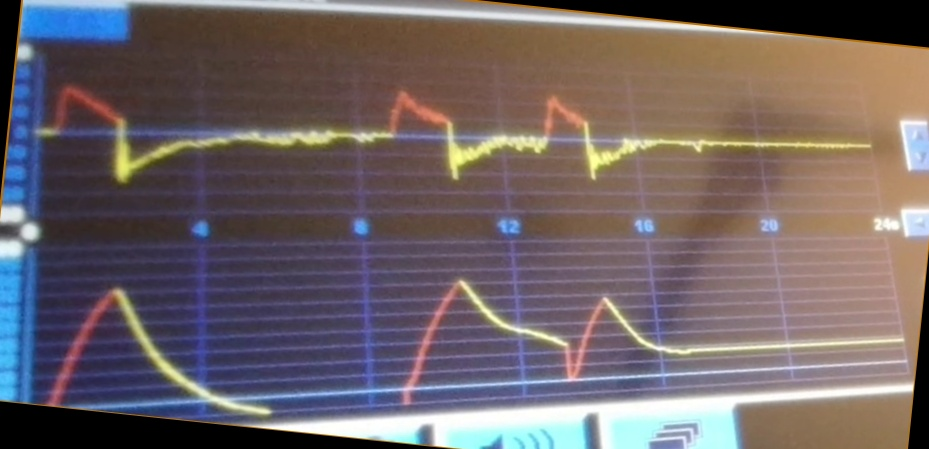Accumulation Flow: (47, 75, 840, 208)
Volume: (46, 272, 877, 417)
